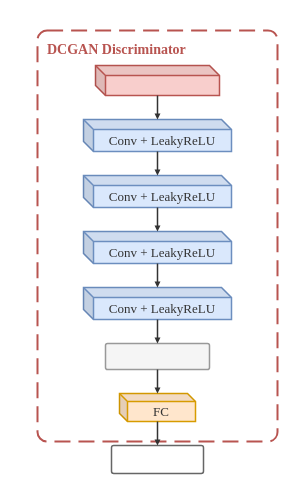
Some shapes in this 299 by 495 pixel diagram are drawn without their labels. The shapes that lost their labels are listed below. From the top down, each one's centre as x and y in pixels, then its label:
At (157,80): "Input Image".
At (157,356): "Flatten".
At (157,459): "Sigmoid".
